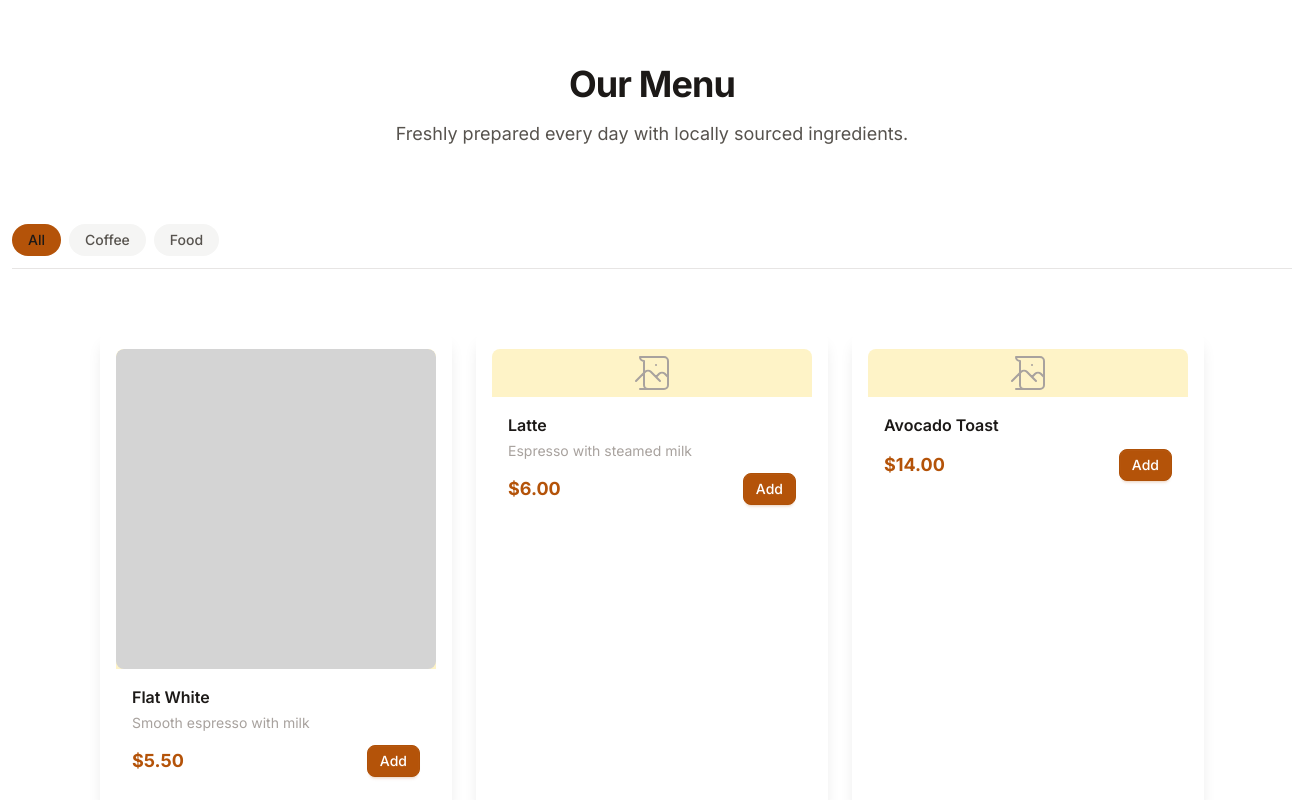
it: MenuPage › filters items by category when category is selected
Click the button "Food": coordinates (187, 240) [154,224,219,256]
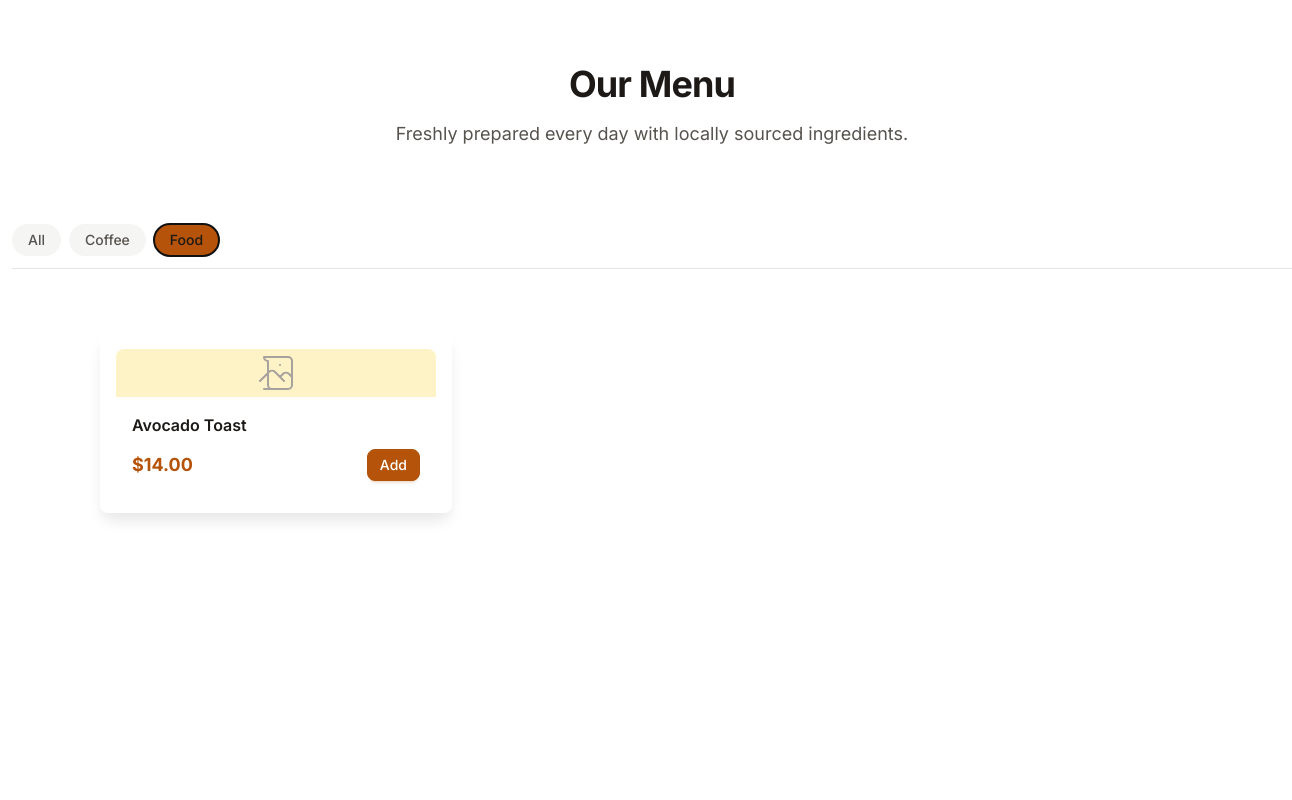
Expected: the heading "Avocado Toast" is shown, [132,415,247,435]
Result: the heading "Flat White" is gone
